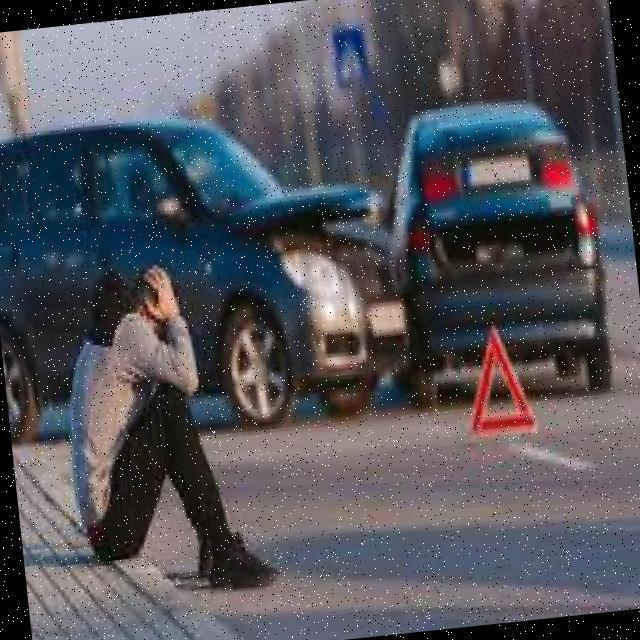accident: (166, 113, 592, 391)
